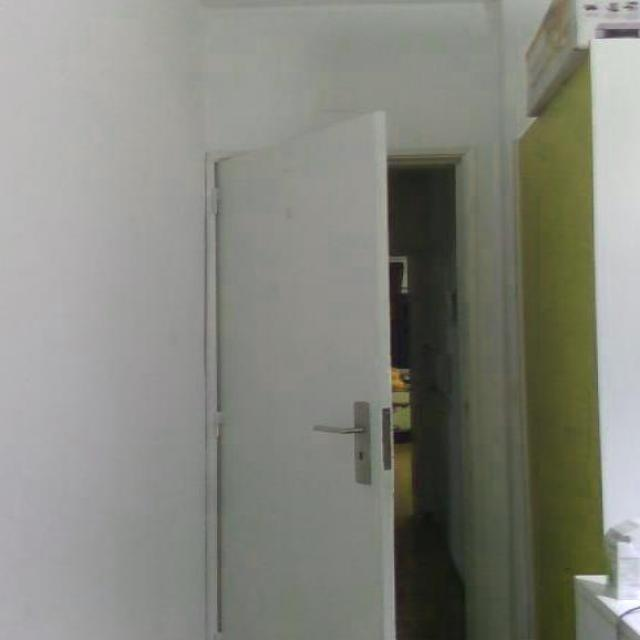door: (207, 109, 396, 638)
